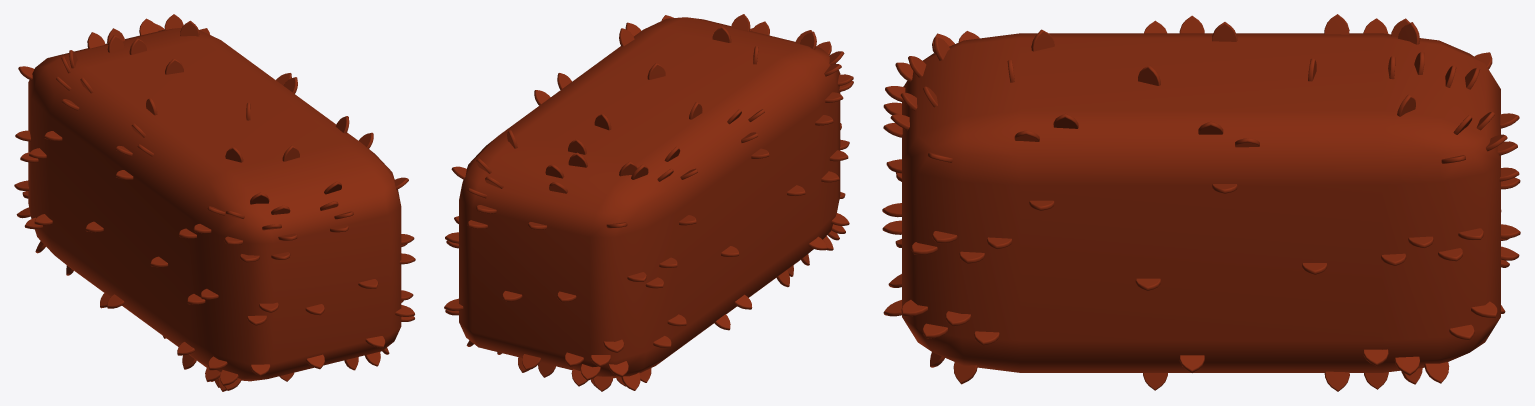
The model's file is vine_fall.fbx.
3 renders of one model, left to right at view 1: azimuth 30°, elevation 25°; view 2: azimuth 150°, elevation 25°; view 3: azimuth 270°, elevation 25°, orthographic. The views are drawn at different scales.
Parts seen in each view (by area): view 1: Circle.017; view 2: Circle.017; view 3: Circle.017.
Part boxes in pixels (<box>): Circle.017: <box>14,14,415,391</box>; Circle.017: <box>444,14,853,391</box>; Circle.017: <box>882,14,1520,391</box>.
Bounding box in the file's own units: 126 × 250 × 126.
